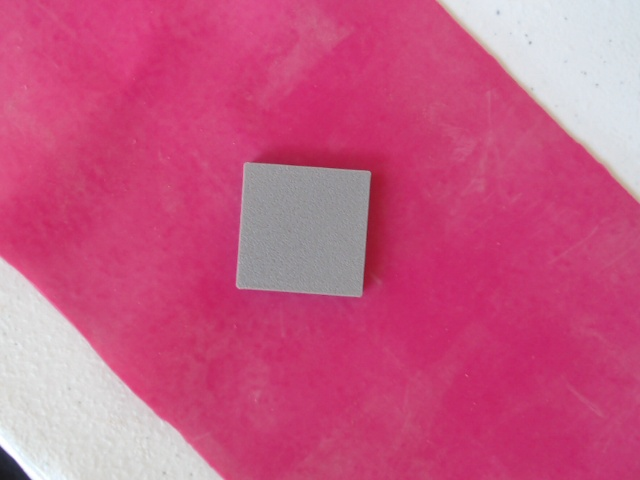Defective: (234, 156, 372, 305)
